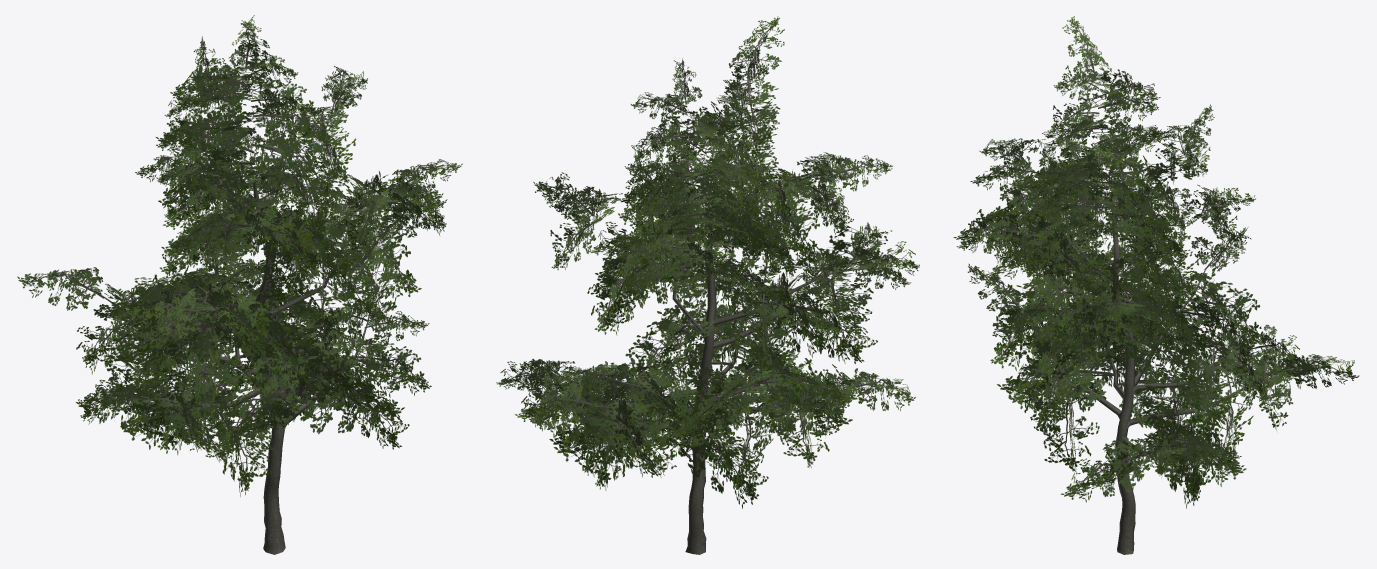
File: oak_medium_3.glb
The picture shows the model from 3 angles, left to right: view 1: azimuth 30°, elevation 25°; view 2: azimuth 150°, elevation 25°; view 3: azimuth 270°, elevation 25°; orthographic projection. The views are drawn at different scales.
Parts seen in each view (by area): view 1: Medium_oak_tree__003_LOD1_Cluster_Mat_0, Medium_oak_tree__003_LOD1_Bark_Mat_0; view 2: Medium_oak_tree__003_LOD1_Cluster_Mat_0, Medium_oak_tree__003_LOD1_Bark_Mat_0; view 3: Medium_oak_tree__003_LOD1_Cluster_Mat_0, Medium_oak_tree__003_LOD1_Bark_Mat_0.
Part boxes in pixels (<box>): Medium_oak_tree__003_LOD1_Cluster_Mat_0: <box>17,15,462,496</box>; Medium_oak_tree__003_LOD1_Bark_Mat_0: <box>103,181,378,554</box>; Medium_oak_tree__003_LOD1_Cluster_Mat_0: <box>496,16,919,508</box>; Medium_oak_tree__003_LOD1_Bark_Mat_0: <box>559,209,850,554</box>; Medium_oak_tree__003_LOD1_Cluster_Mat_0: <box>953,16,1359,508</box>; Medium_oak_tree__003_LOD1_Bark_Mat_0: <box>1020,197,1278,554</box>.
Size of the model in its own units: 9.4 by 12.69 by 9.31.
Materials: 2 (2 with a texture image).
